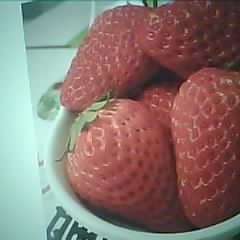straw-ripe: (69, 99, 179, 231), (61, 2, 163, 111), (172, 70, 240, 226)
